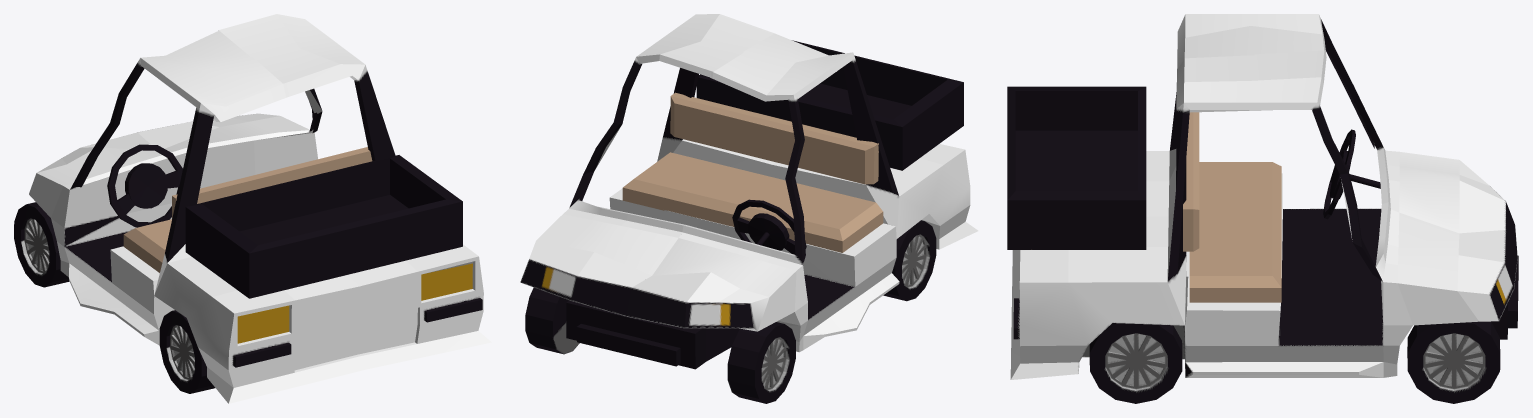
The model's file is Caddie_damaged_1.fbx.
The picture shows the model from 3 angles, left to right: view 1: azimuth 30°, elevation 25°; view 2: azimuth 150°, elevation 25°; view 3: azimuth 270°, elevation 25°; orthographic projection. The views are drawn at different scales.
Parts seen in each view (by area): view 1: car_DAMAGE 1; view 2: car_DAMAGE 1; view 3: car_DAMAGE 1.
Part boxes in pixels (bbox=[...]): car_DAMAGE 1: bbox=[14, 14, 491, 403]; car_DAMAGE 1: bbox=[520, 14, 978, 403]; car_DAMAGE 1: bbox=[1007, 14, 1518, 403].
Size of the model in its own units: 141 by 132 by 206.
